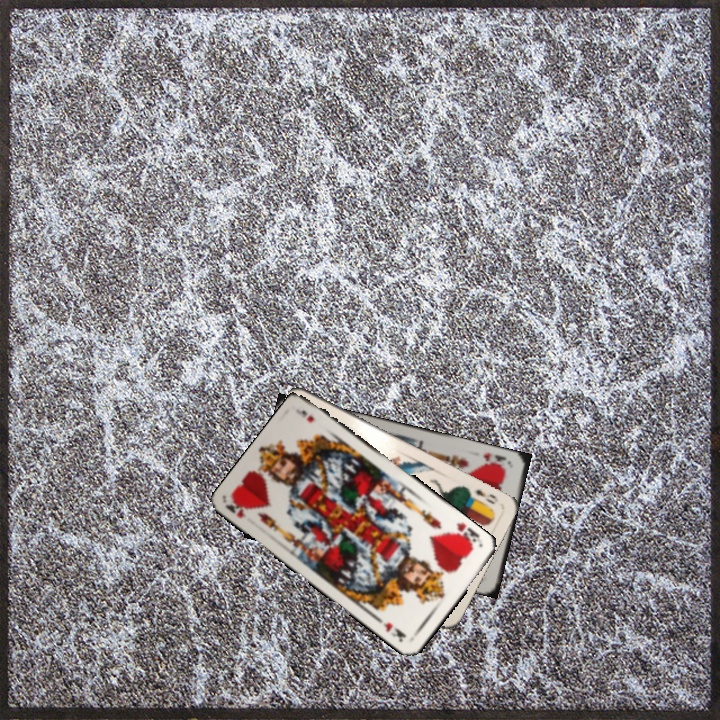EO: (471, 485, 501, 507)
HK: (447, 518, 482, 550), (479, 448, 513, 471), (222, 494, 250, 521)
